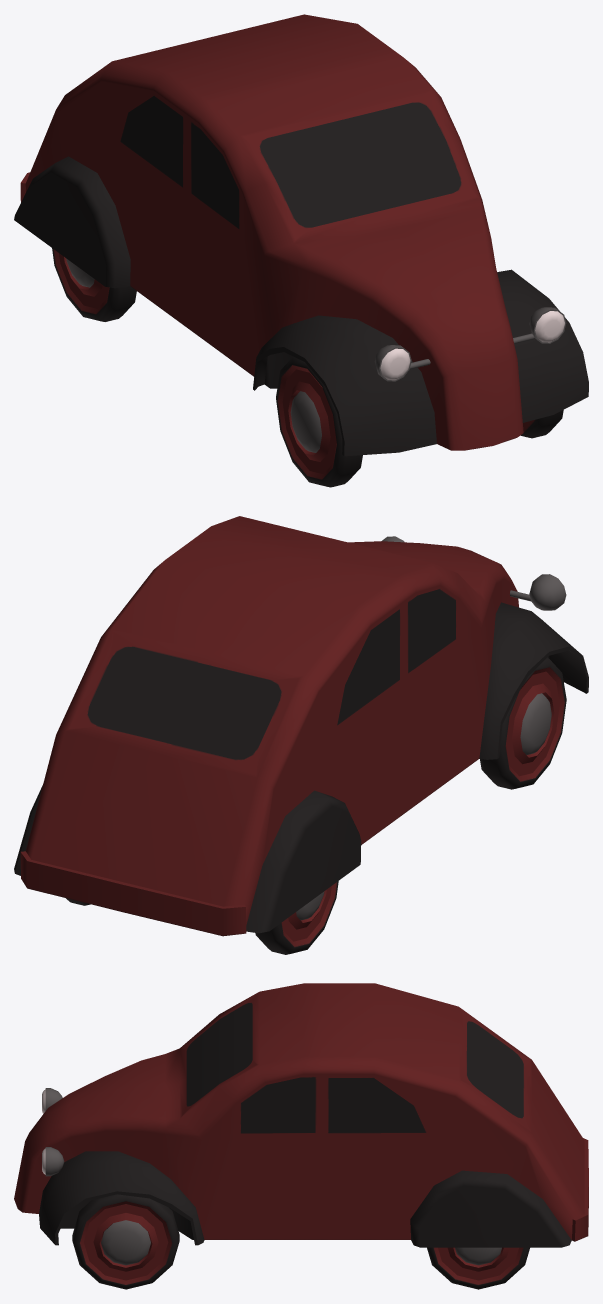
Rendered from cardboard car_3.fbx.
3 views of the same model, one above another, from view 1: azimuth 30°, elevation 25°; view 2: azimuth 150°, elevation 25°; view 3: azimuth 270°, elevation 25° (orthographic). The views are drawn at different scales.
Visible parts, largest first — view 1: polySurface11, polySurface14, polySurface13, polySurface15; view 2: polySurface11, polySurface14, polySurface13; view 3: polySurface11, polySurface15, polySurface16.
Boxes of the visible parts, x1,y1,x2,y2 form: polySurface11: (14,14,588,456); polySurface14: (276,356,362,487); polySurface13: (52,248,136,321); polySurface15: (520,410,563,438); polySurface11: (14,516,588,936); polySurface14: (480,657,566,789); polySurface13: (255,881,338,954); polySurface11: (14,983,588,1247); polySurface15: (72,1194,179,1289); polySurface16: (427,1247,529,1289).
Bounding box in the file's own units: 123 × 135 × 308.
